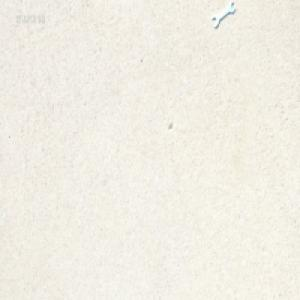Wrench: (209, 1, 234, 29)
